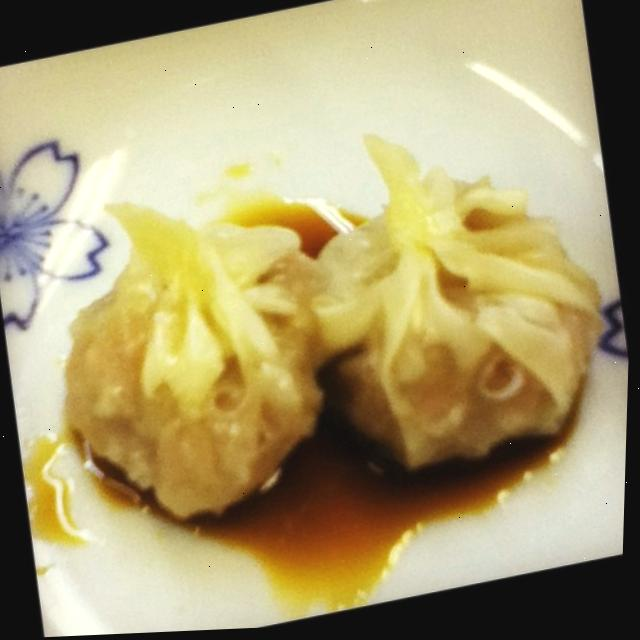带馅早点: (7, 54, 628, 582)
